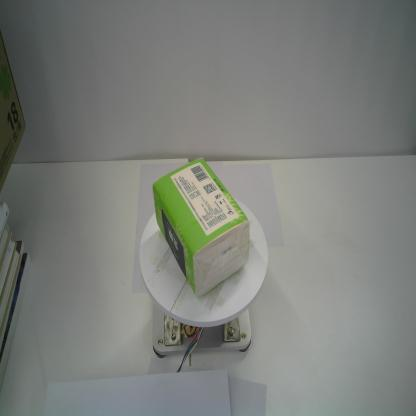Tissue: (152, 156, 250, 298)
